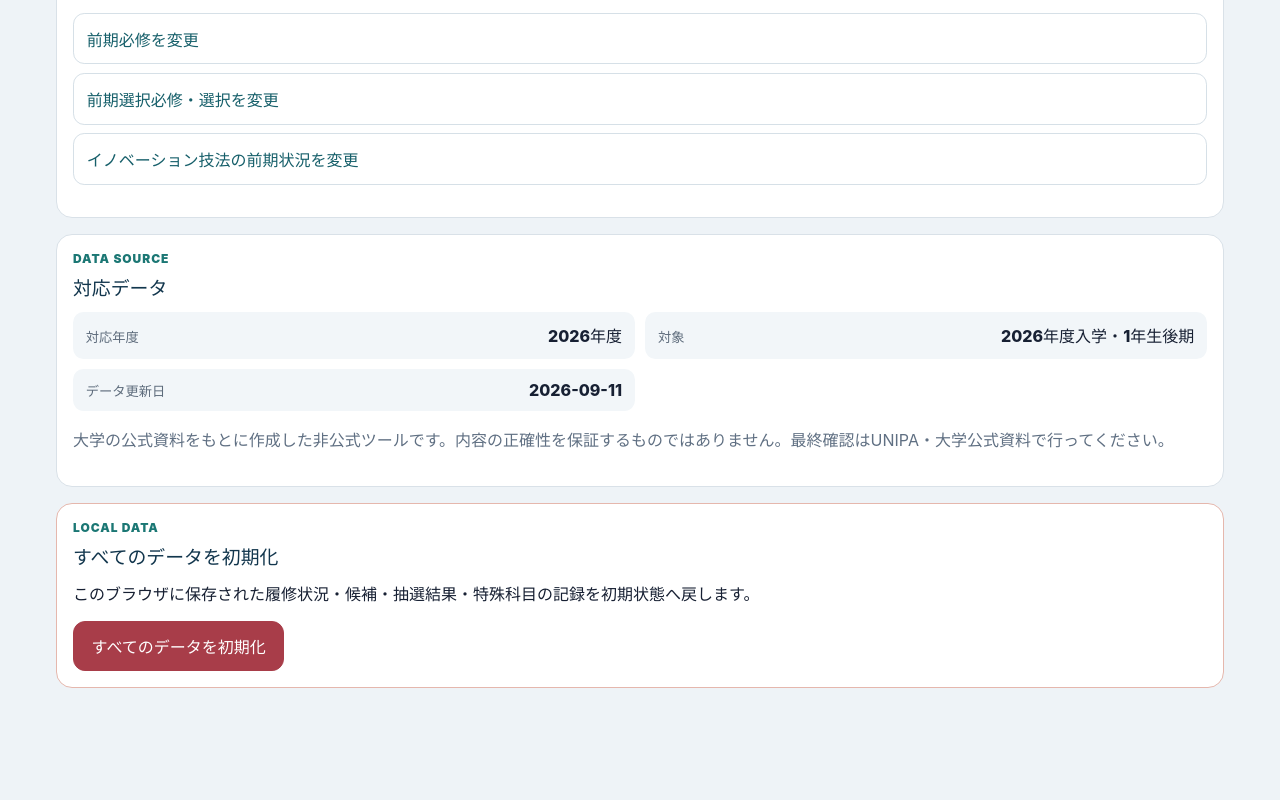
it: Phase 7 Settings › 確認前にはRESET_APPをdispatchしない
(page scrolled)
Click the button "すべてのデータを初期化" at (179, 646), box [73,621,284,671]
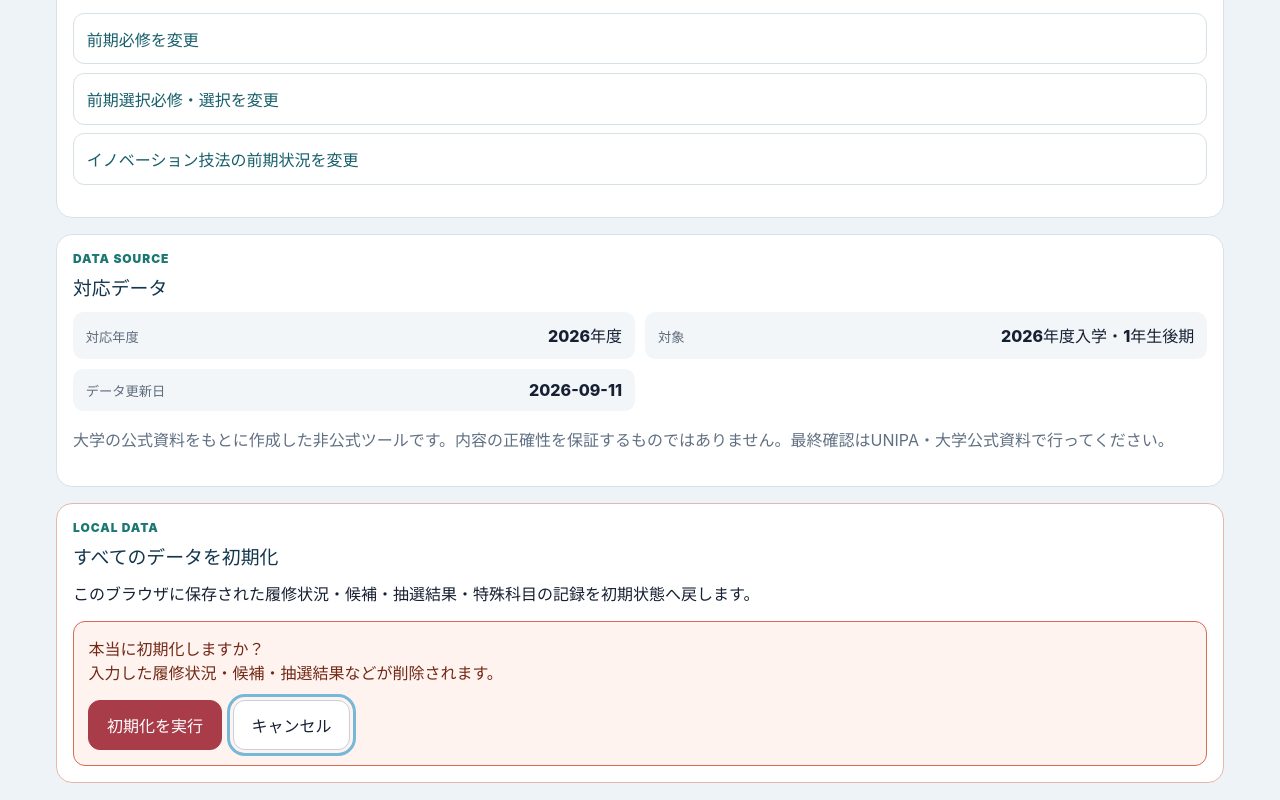
Expected: the text "本当に初期化しますか？" is shown, [88,639,264,659]
